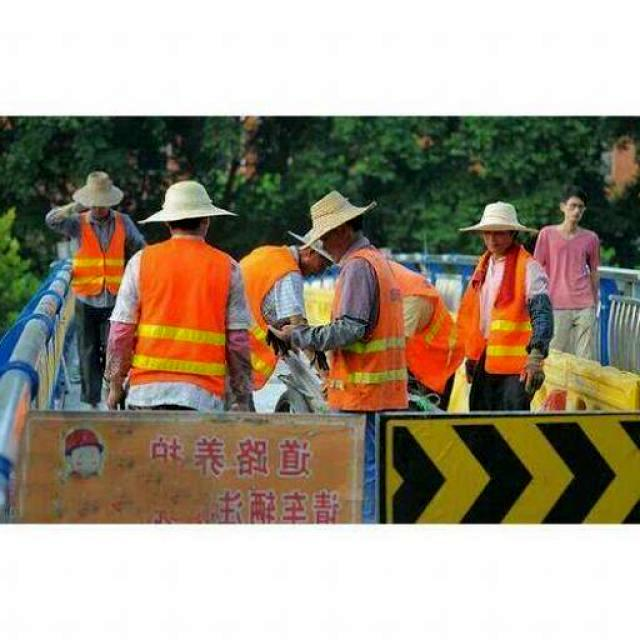no_hard_hat: (300, 190, 376, 249), (141, 181, 235, 224), (460, 201, 538, 231), (72, 172, 122, 208), (286, 229, 331, 260)
no_head_wear: (561, 188, 586, 206)
person: (108, 182, 251, 410), (268, 191, 406, 411), (46, 171, 144, 406), (459, 201, 551, 410), (240, 228, 329, 414), (382, 251, 461, 410), (534, 195, 599, 358)
